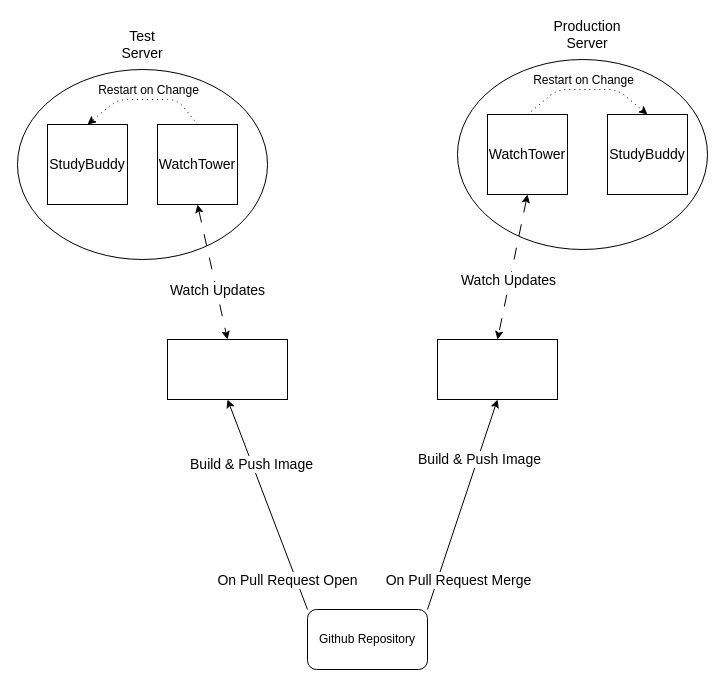
Some shapes in this 725 by 687 pixel diagram are drawn without their labels. Here are the shapes that lost their labels. From the top down, the centre of each, then its label:
(x=227, y=369): Container Registry tag:latest
(x=497, y=369): Container Registry tag:production
